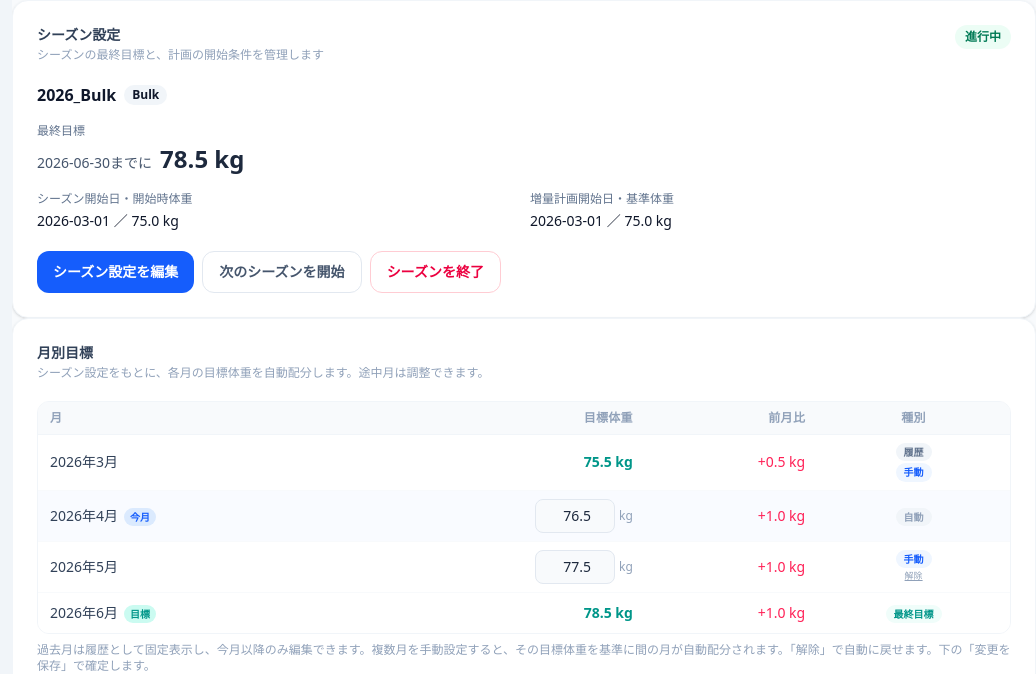
Test: SeasonSettingsSections › 期間外・不正な開始日  は確認に進めない
Click the button "シーズン設定を編集" at x=116, y=272, box [37, 251, 194, 293]
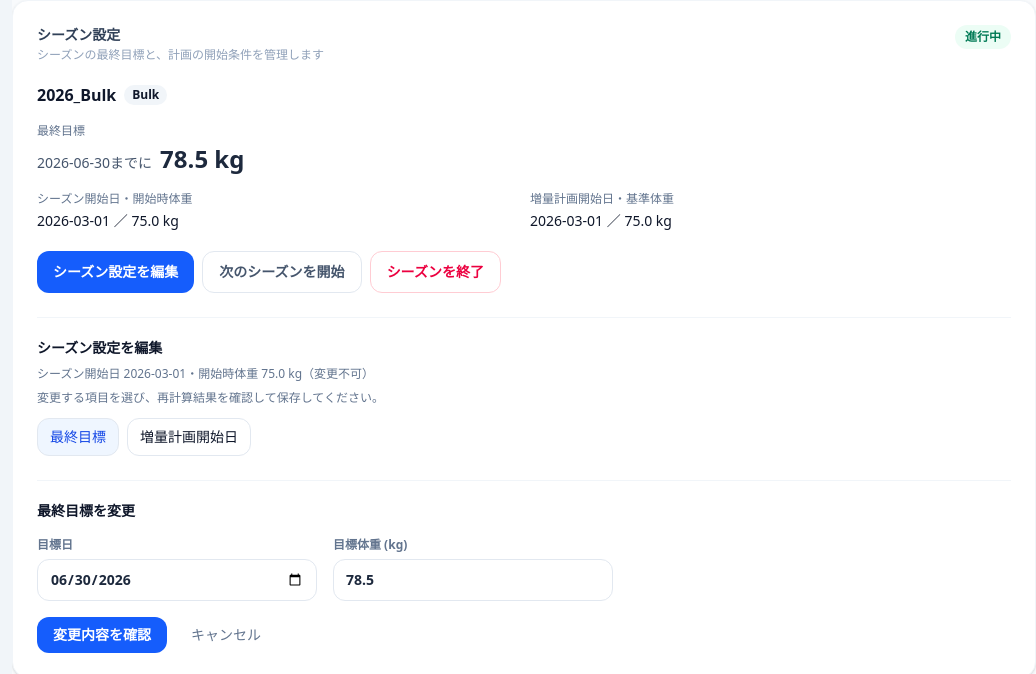
Click the button "増量計画開始日" at x=189, y=437, box [127, 418, 251, 456]
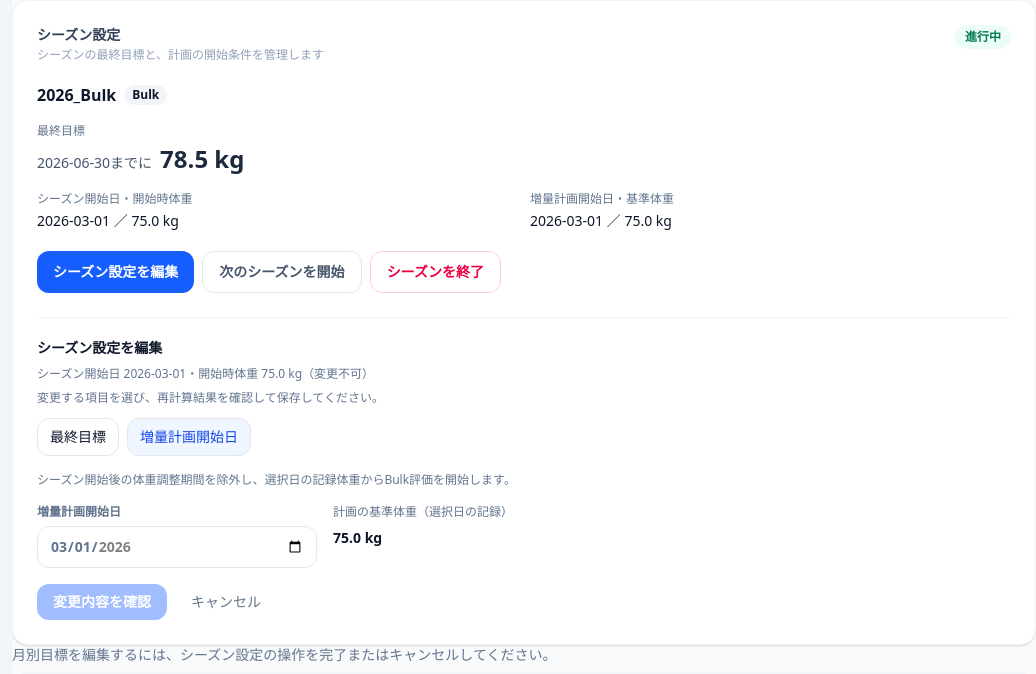
Clear the date field labelled "増量計画開始日" at x=177, y=547, box [37, 526, 317, 568]
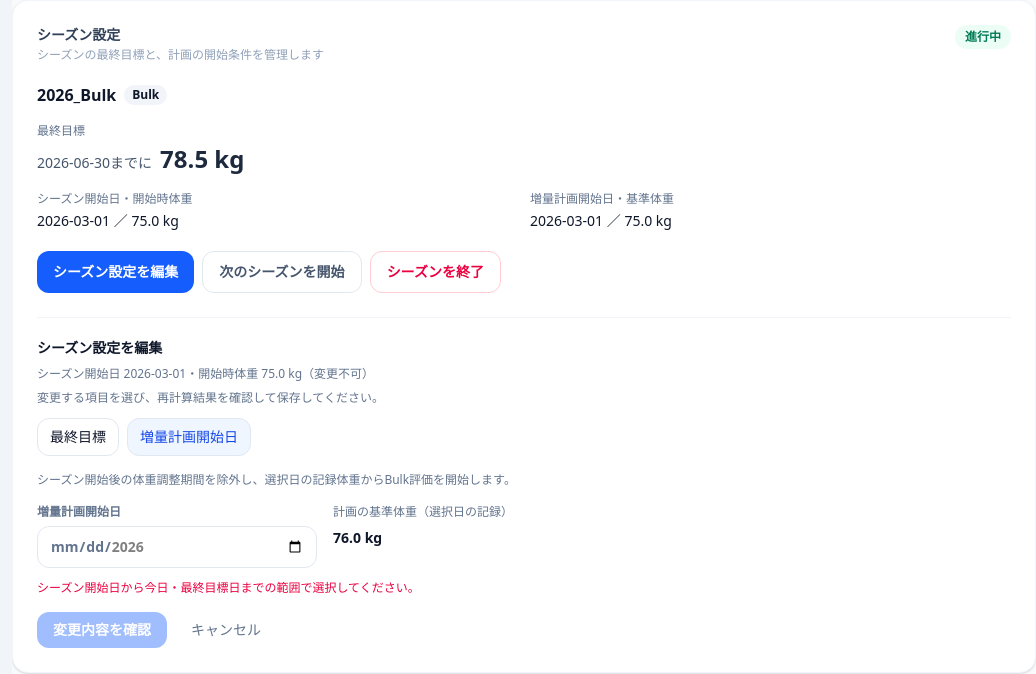
Now the button "変更内容を確認" is disabled, box [37, 612, 167, 648]
Now the text "シーズン開始日から今日・最終目標日までの範囲で選択してください。" is shown, box [37, 579, 420, 596]
